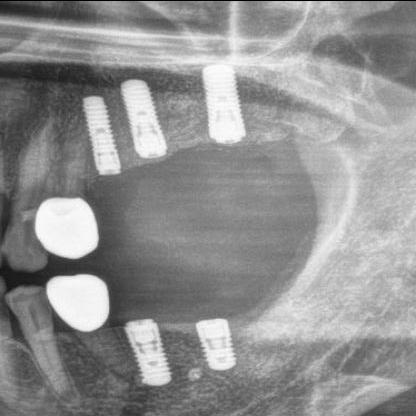ITI: (80, 87, 124, 176), (121, 78, 166, 160), (201, 61, 245, 144), (122, 317, 172, 385), (194, 316, 235, 371)
